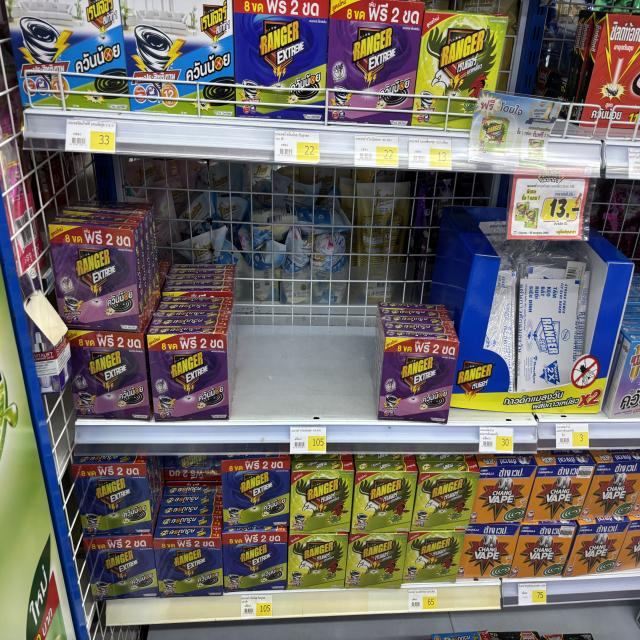empty_shelf: (234, 200, 385, 420), (494, 19, 598, 140), (153, 179, 234, 334), (385, 195, 460, 333), (151, 462, 220, 537)
